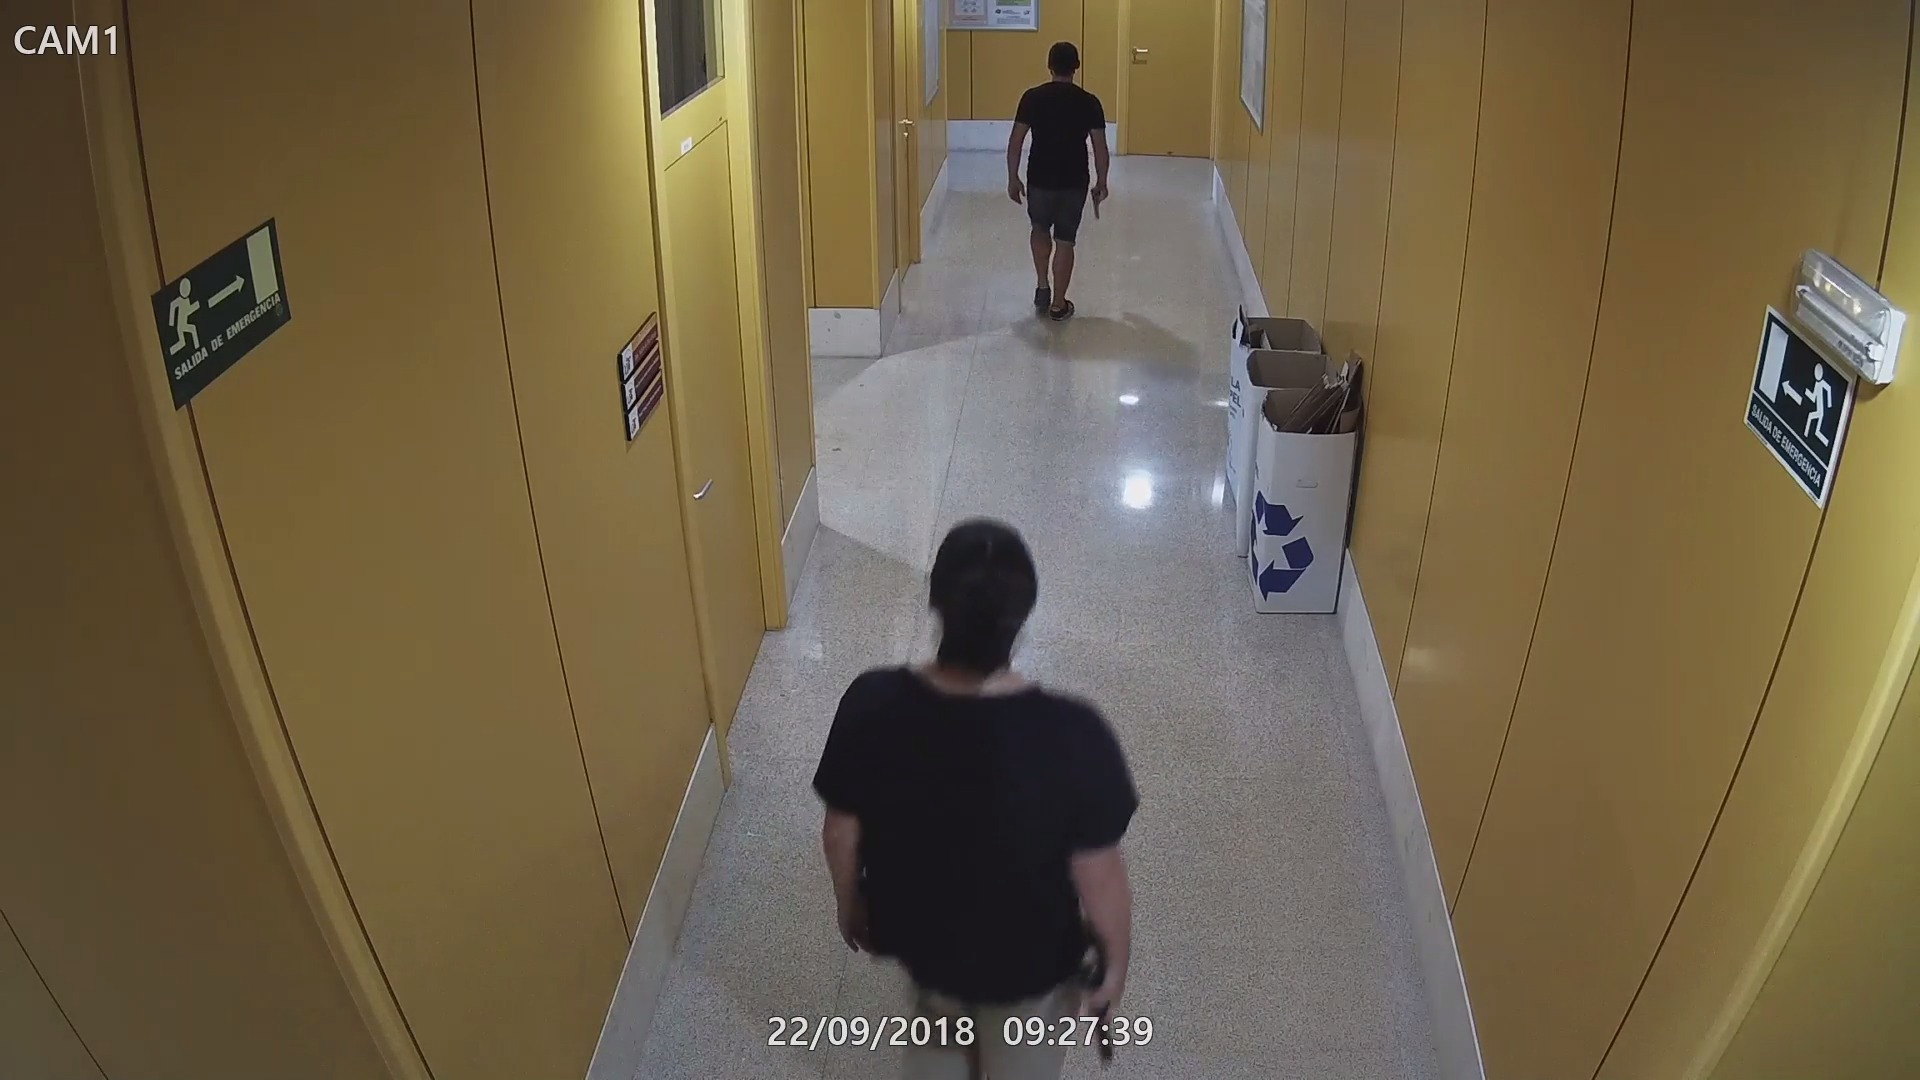Handgun: (1088, 183, 1114, 219)
Short_rifle: (1073, 920, 1122, 1072)
